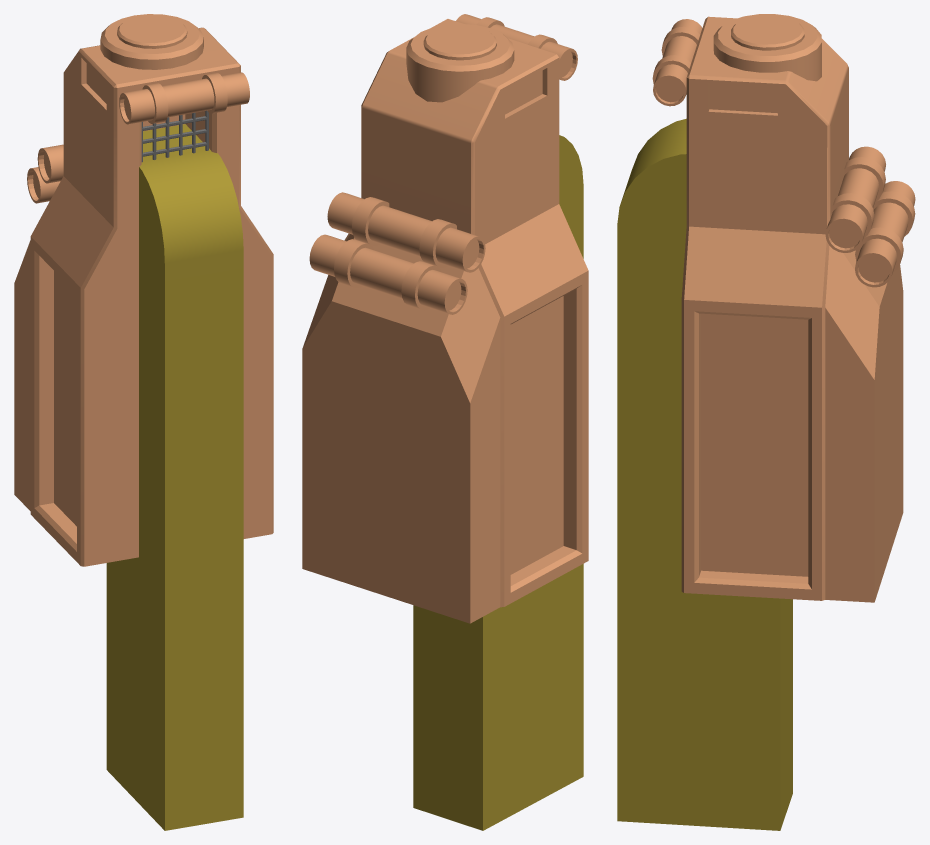
The model's file is lava spouts.fbx.
3 views of the same model, side by side, from view 1: azimuth 30°, elevation 25°; view 2: azimuth 150°, elevation 25°; view 3: azimuth 270°, elevation 25° (orthographic). The views are drawn at different scales.
Parts seen in each view (by area): view 1: lava_run_off, lava_spouts, pCylinder1, pCylinder2, grate_template1, pCylinder3, pCylinder4; view 2: lava_spouts, lava_run_off, pCylinder4, pCylinder3, pCylinder1, pCylinder2; view 3: lava_spouts, lava_run_off, pCylinder1, pCylinder3, pCylinder4, pCylinder2.
Part boxes in pixels (left/top/right/bottom): lava_run_off: left=106, top=124, right=243, bottom=830; lava_spouts: left=14, top=27, right=273, bottom=566; pCylinder1: left=100, top=14, right=203, bottom=69; pCylinder2: left=119, top=72, right=249, bottom=124; grate_template1: left=141, top=110, right=208, bottom=162; pCylinder3: left=37, top=144, right=63, bottom=183; pCylinder4: left=27, top=167, right=60, bottom=203; lava_spouts: left=302, top=19, right=588, bottom=623; lava_run_off: left=413, top=135, right=583, bottom=830; pCylinder4: left=309, top=234, right=467, bottom=314; pCylinder3: left=327, top=192, right=485, bottom=272; pCylinder1: left=406, top=24, right=514, bottom=102; pCylinder2: left=456, top=14, right=577, bottom=80; lava_spouts: left=681, top=16, right=903, bottom=602; lava_run_off: left=617, top=118, right=792, bottom=830; pCylinder1: left=713, top=14, right=821, bottom=81; pCylinder3: left=825, top=146, right=885, bottom=252; pCylinder4: left=855, top=181, right=915, bottom=287; pCylinder2: left=652, top=19, right=702, bottom=106.
Bounding box in the file's own units: 9.09 × 32.56 × 11.26.
